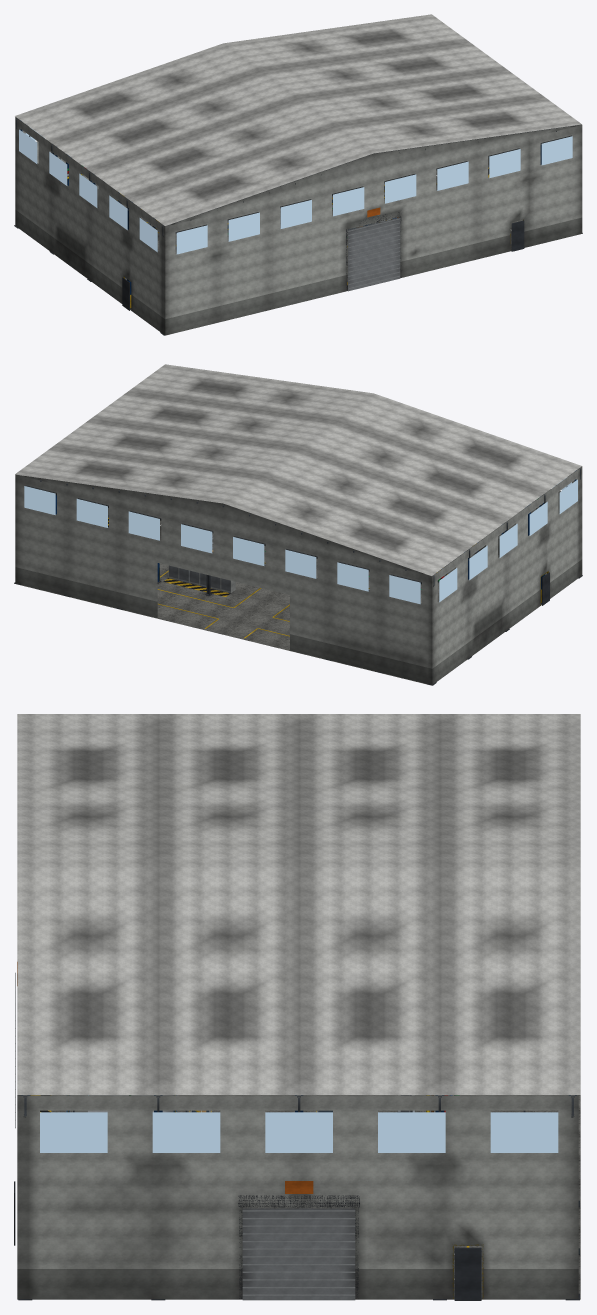
The model's file is planta-industrial.glb.
3 views of the same model, one above another, from view 1: azimuth 30°, elevation 25°; view 2: azimuth 150°, elevation 25°; view 3: azimuth 270°, elevation 25° (orthographic). The views are drawn at different scales.
Visible parts, largest first — view 1: ENV_HallShell_Painted, ENV_HallShell_Emissive, ENV_HallShell_Metal; view 2: ENV_HallShell_Painted, ENV_HallShell_Emissive, ENV_HallFloor_Concrete, ENV_Production_Painted, ENV_HallFloor_Painted; view 3: ENV_HallShell_Painted, ENV_HallShell_Emissive, ENV_HallShell_Metal, ENV_HallFloor_Concrete.
Part boxes in pixels (box(x1,y1,x2,y2)): ENV_HallShell_Painted: box(14, 14, 582, 335); ENV_HallShell_Emissive: box(19, 127, 572, 254); ENV_HallShell_Metal: box(348, 217, 400, 291); ENV_HallShell_Painted: box(14, 364, 582, 685); ENV_HallShell_Emissive: box(24, 477, 577, 604); ENV_HallFloor_Concrete: box(16, 515, 546, 685); ENV_Production_Painted: box(168, 550, 455, 595); ENV_HallFloor_Painted: box(108, 517, 421, 638); ENV_HallShell_Painted: box(14, 714, 580, 1300); ENV_HallShell_Emissive: box(40, 1112, 558, 1152); ENV_HallShell_Metal: box(15, 972, 355, 1300); ENV_HallFloor_Concrete: box(51, 1095, 580, 1299).
Bounding box in the file's own units: 32.25 × 9.73 × 20.2.
Materials: 4 (3 with a texture image).
